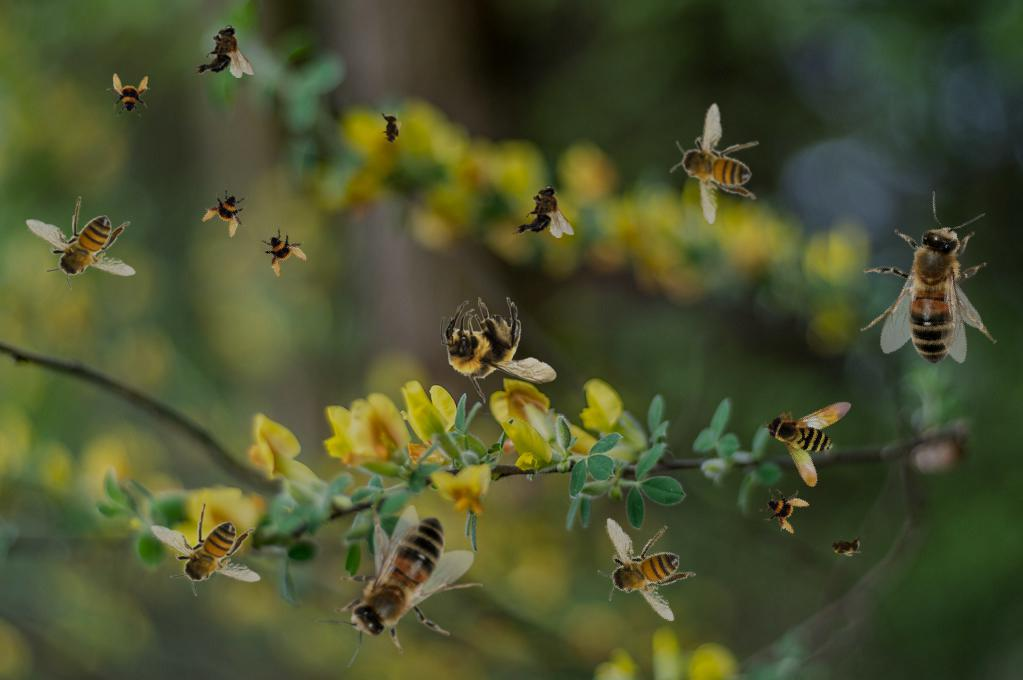Bee: (818, 174, 1023, 400), (316, 505, 483, 667), (570, 496, 715, 636), (650, 92, 783, 232), (759, 376, 879, 494), (439, 294, 558, 405), (25, 196, 136, 290), (150, 502, 261, 596), (252, 219, 314, 281), (754, 478, 814, 538), (198, 182, 258, 242), (192, 25, 254, 78), (512, 185, 574, 238), (106, 73, 150, 117), (825, 535, 865, 557), (380, 109, 402, 149)
